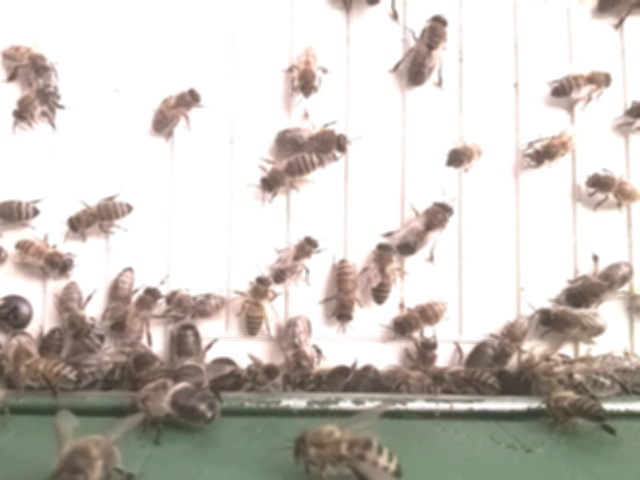Drone: (394, 198, 457, 257), (565, 256, 635, 309), (406, 10, 451, 86), (281, 310, 320, 391), (536, 305, 610, 339), (273, 124, 354, 155)
Worker: (149, 87, 206, 135), (271, 233, 321, 286), (64, 197, 135, 234), (259, 152, 323, 192), (12, 235, 74, 275), (394, 295, 453, 336), (125, 283, 162, 348), (493, 311, 533, 368), (105, 262, 136, 334), (166, 285, 229, 320), (57, 279, 92, 342), (550, 67, 614, 101), (242, 271, 274, 339), (331, 257, 362, 325), (586, 170, 640, 208), (368, 239, 398, 305), (0, 42, 56, 77), (530, 127, 583, 163), (295, 42, 322, 99)
